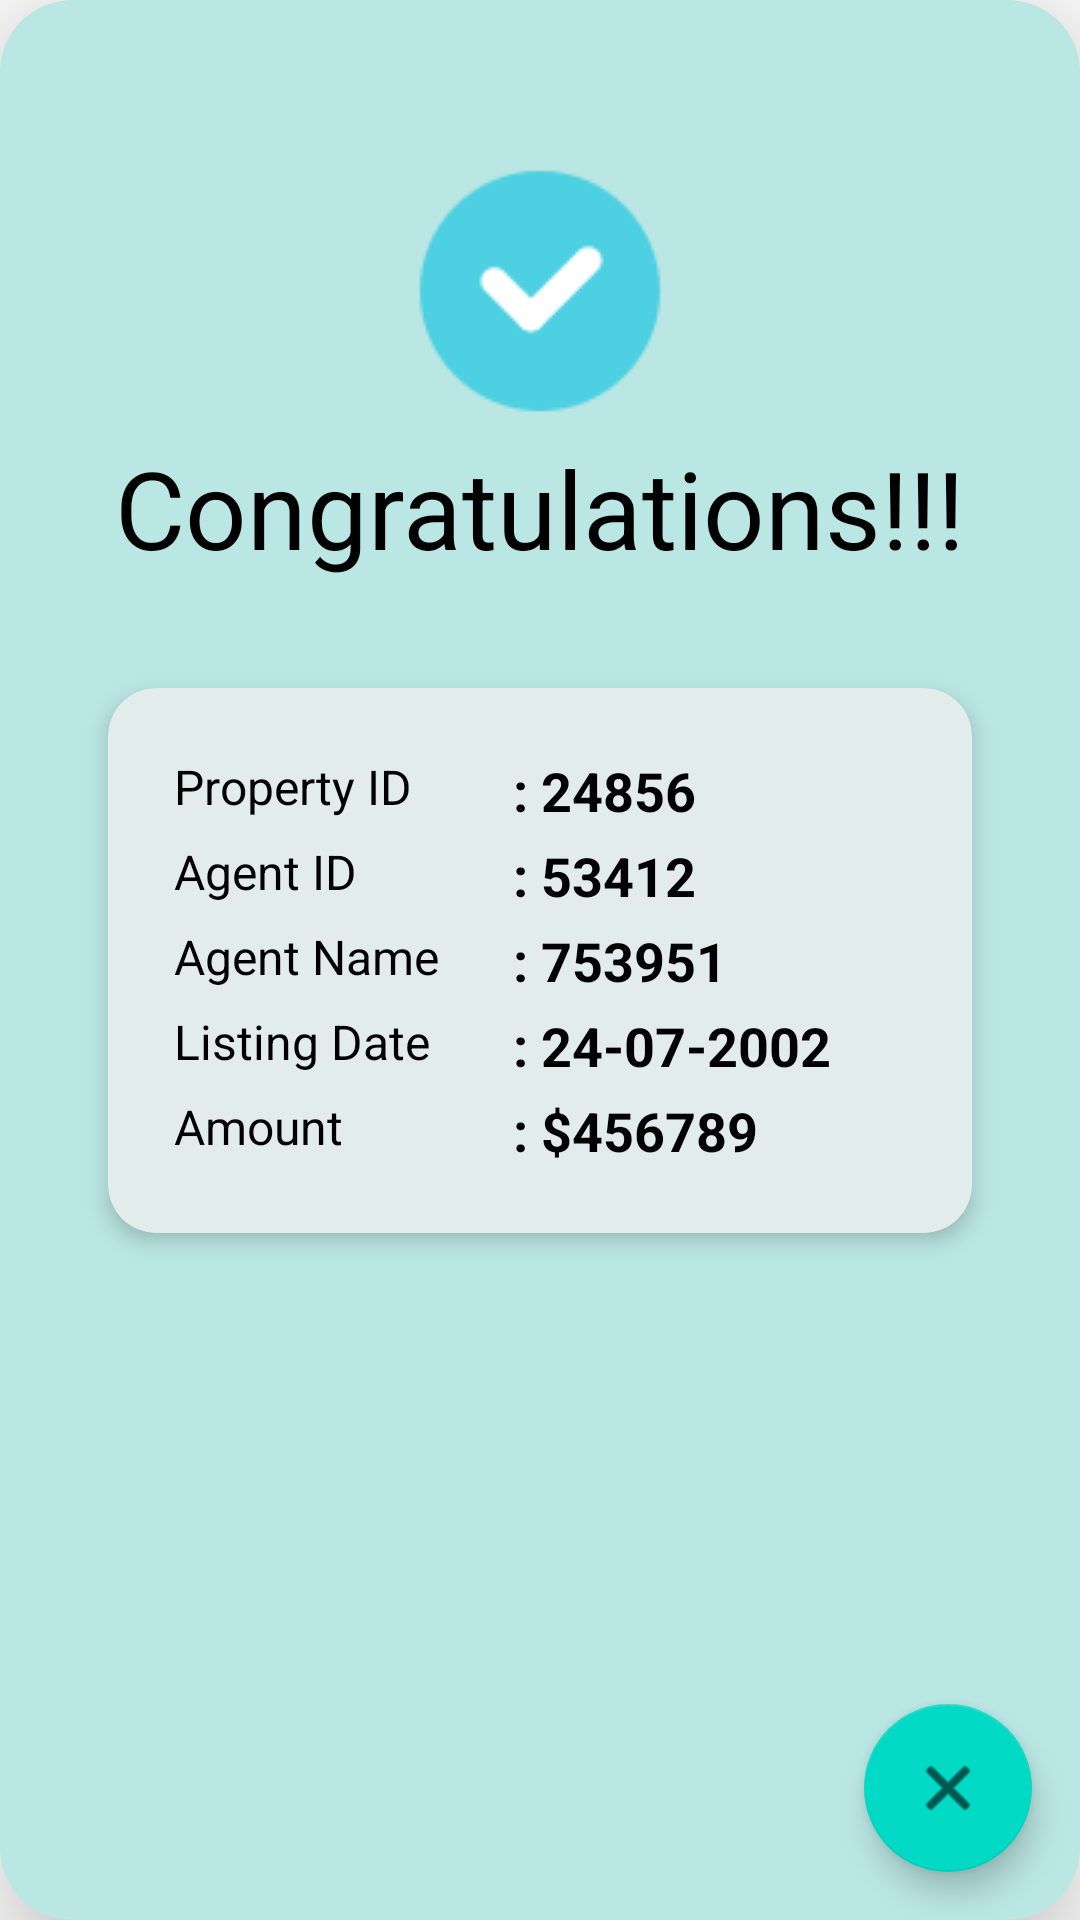

Icon bounding boxes for this 1080 x 1920 phone screenshot, format {"x1": x1, "y1": y1, "x2": x2, "y2": y2}:
close clear cancel: {"x1": 864, "y1": 1704, "x2": 1032, "y2": 1872}
